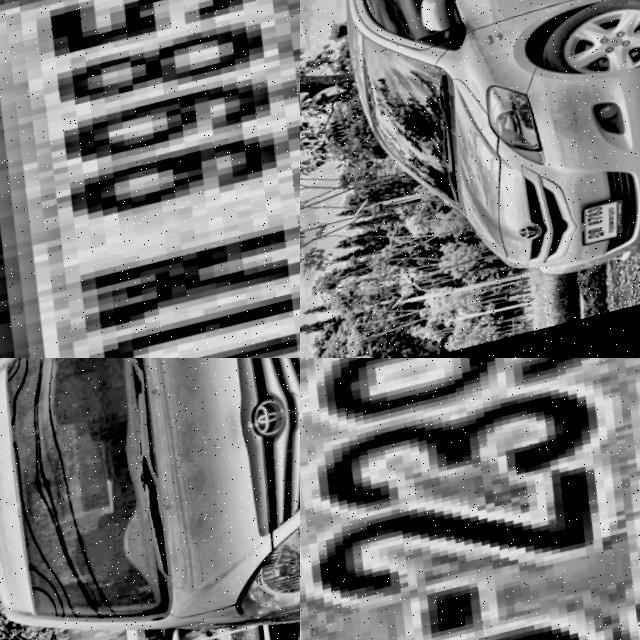license-plate: (0, 0, 300, 358), (300, 358, 640, 640), (582, 200, 640, 253)
